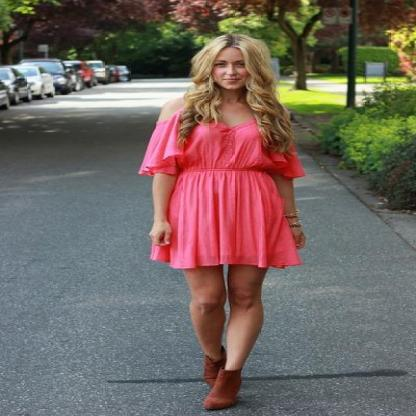dress: (138, 110, 303, 268)
shoe: (201, 365, 244, 412)
